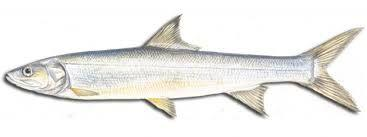Tenpounder: (6, 13, 362, 137)
